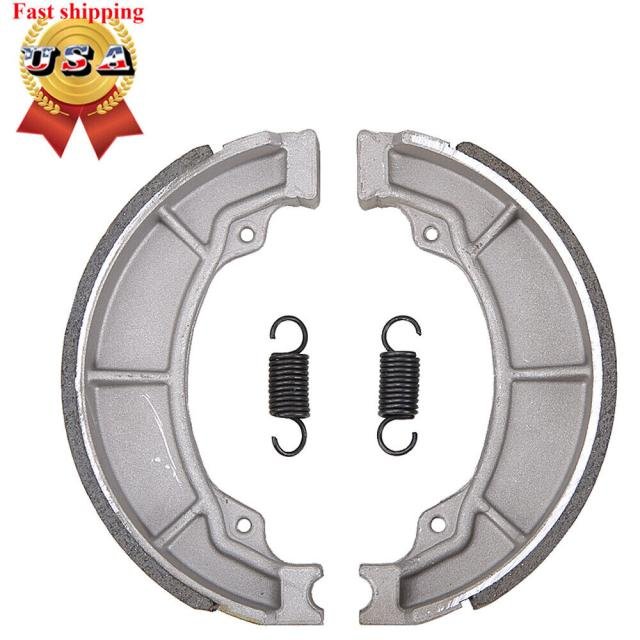brake_pad: (58, 115, 333, 627), (348, 123, 619, 636)
